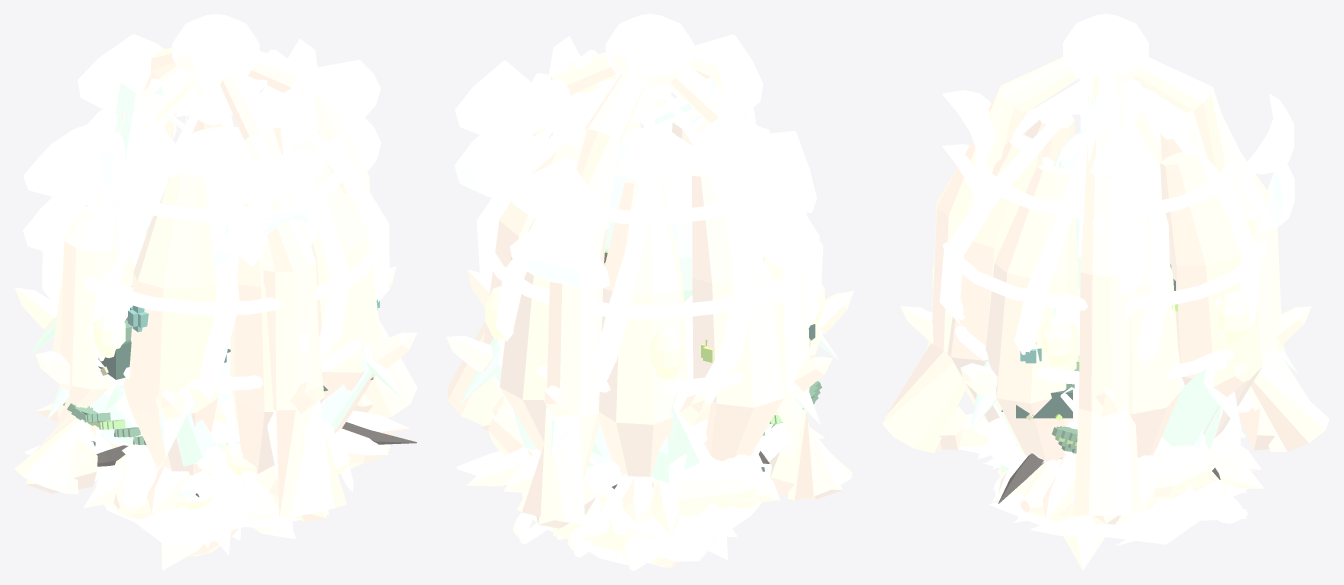
Rendered from spell-models-ranger.glb.
3 views of the same model, side by side, from view 1: azimuth 30°, elevation 25°; view 2: azimuth 150°, elevation 25°; view 3: azimuth 270°, elevation 25° (orthographic). The views are drawn at different scales.
Parts seen in each view (by area): view 1: fx_forest-ward, fx_barkskin, fx_silken-guard, fx_survival-instinct, fx_thornburst, fx_heart-of-the-wild, fx_venom-detonation, fx_poison-cloud, fx_ricochet-shot, fx_serpent-fan, fx_hamstring-shot, fx_frostfall-volley (+6 smaller); view 2: fx_forest-ward, fx_barkskin, fx_silken-guard, fx_thornburst, fx_survival-instinct, fx_venom-detonation, fx_power-shot, fx_heart-of-the-wild, fx_hail-of-arrows, fx_frostfall-volley, fx_eagles-eye, fx_rapid-fire (+2 smaller); view 3: fx_forest-ward, fx_barkskin, fx_silken-guard, fx_thornburst, fx_venom-detonation, fx_frostfall-volley, fx_power-shot, fx_survival-instinct, fx_poison-cloud, fx_hail-of-arrows, fx_ricochet-shot, fx_heart-of-the-wild (+2 smaller).
Boxes of the visible parts, x1,y1,x2,y2 form: fx_forest-ward: (15,14,417,522); fx_barkskin: (52,107,388,512); fx_silken-guard: (42,83,389,442); fx_survival-instinct: (94,38,322,481); fx_thornburst: (14,266,417,471); fx_heart-of-the-wild: (85,49,334,494); fx_venom-detonation: (34,285,409,508); fx_poison-cloud: (63,299,416,496); fx_ricochet-shot: (109,410,390,519); fx_serpent-fan: (173,443,353,530); fx_hamstring-shot: (144,499,229,532); fx_frostfall-volley: (95,398,329,546); fx_forest-ward: (447,14,852,528); fx_barkskin: (481,110,824,523); fx_silken-guard: (476,84,823,441); fx_thornburst: (446,269,853,477); fx_survival-instinct: (548,36,762,463); fx_venom-detonation: (466,283,824,535); fx_power-shot: (488,402,771,515); fx_heart-of-the-wild: (495,50,769,486); fx_hail-of-arrows: (513,444,714,570); fx_frostfall-volley: (533,502,761,564); fx_eagles-eye: (456,450,736,537); fx_rapid-fire: (553,493,654,552); fx_forest-ward: (882,14,1329,524); fx_barkskin: (947,106,1262,509); fx_silken-guard: (939,79,1268,429); fx_thornburst: (900,306,1311,465); fx_venom-detonation: (932,265,1264,518); fx_frostfall-volley: (989,499,1209,544); fx_power-shot: (1137,442,1218,509); fx_survival-instinct: (1042,79,1161,296); fx_poison-cloud: (998,264,1220,503); fx_hail-of-arrows: (973,404,1247,523); fx_ricochet-shot: (1020,453,1082,521); fx_heart-of-the-wild: (1055,92,1213,480).
Size of the model in its own units: 2.32 by 3 by 2.32.
